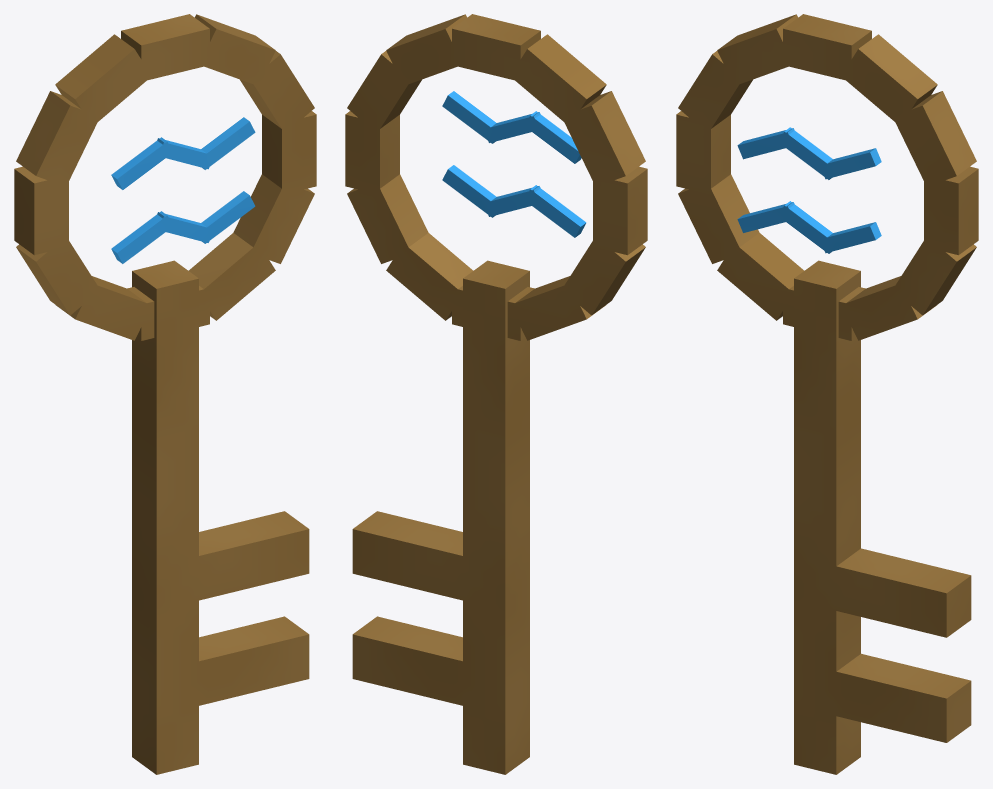
File: key_wave.obj
3 views of the same model, side by side, from view 1: azimuth 30°, elevation 25°; view 2: azimuth 150°, elevation 25°; view 3: azimuth 330°, elevation 25° (orthographic).
Parts seen in each view (by area): view 1: key_wave; view 2: key_wave; view 3: key_wave.
Boxes of the visible parts, bbox=[...] form: key_wave: bbox=[14, 14, 316, 774]; key_wave: bbox=[345, 14, 647, 774]; key_wave: bbox=[676, 14, 978, 774].
Bounding box in the file's own units: 0.365 × 0.9025 × 0.0741.
2 materials, 2 textured.
